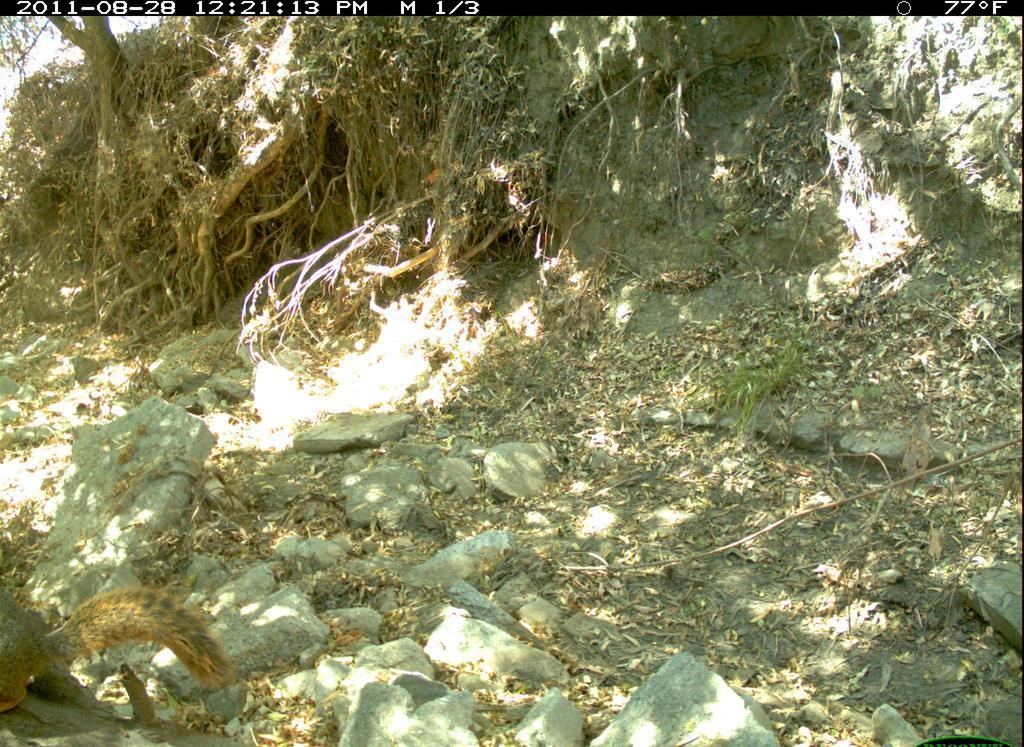squirrel: (3, 573, 237, 728)
